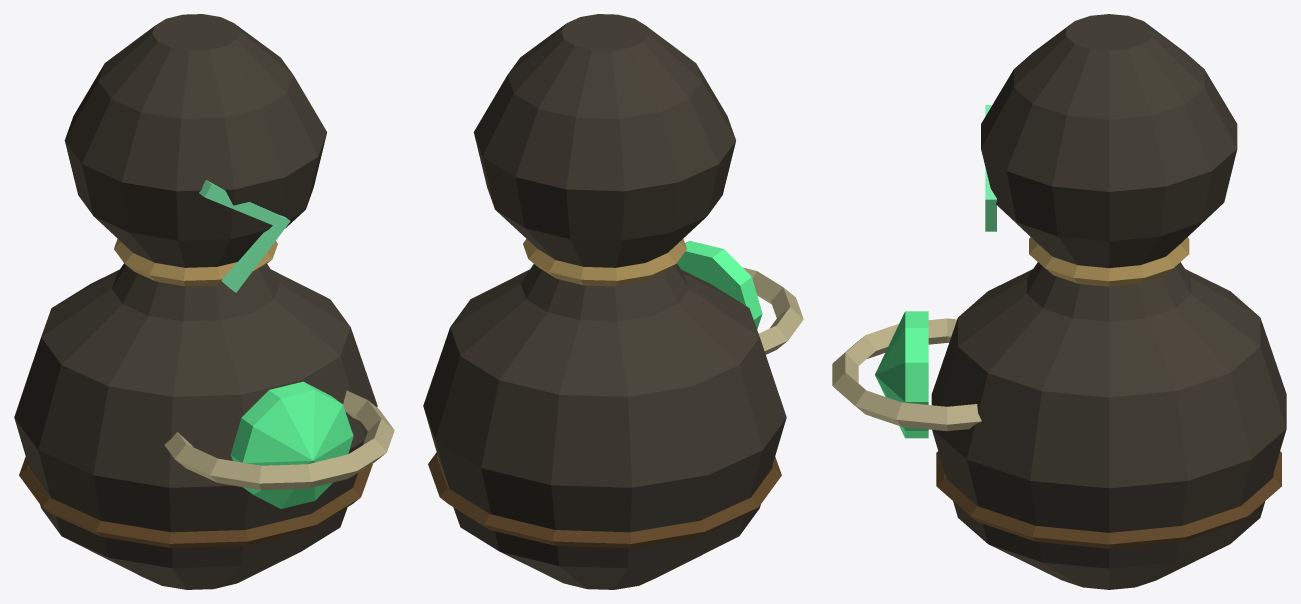
Rendered from void_swallowing_gourd.obj.
The picture shows the model from 3 angles, left to right: view 1: azimuth 30°, elevation 25°; view 2: azimuth 150°, elevation 25°; view 3: azimuth 270°, elevation 25°; orthographic projection.
Parts seen in each view (by area): view 1: void_gourd, void_core, void_orbit, void_lower_seal, void_waist, void_script, void_script_edge; view 2: void_gourd, void_lower_seal, void_waist, void_core, void_orbit; view 3: void_gourd, void_lower_seal, void_orbit, void_core, void_waist, void_script_edge.
Boxes of the visible parts, x1=… form: void_gourd: x1=14, y1=14, x2=377, y2=589; void_core: x1=230, y1=381, x2=353, y2=508; void_orbit: x1=164, y1=390, x2=394, y2=490; void_lower_seal: x1=19, y1=457, x2=372, y2=548; void_waist: x1=114, y1=238, x2=277, y2=286; void_script: x1=205, y1=184, x2=290, y2=292; void_script_edge: x1=199, y1=180, x2=289, y2=291; void_gourd: x1=423, y1=14, x2=786, y2=589; void_lower_seal: x1=428, y1=452, x2=781, y2=548; void_waist: x1=523, y1=239, x2=686, y2=286; void_core: x1=677, y1=241, x2=762, y2=329; void_orbit: x1=743, y1=267, x2=803, y2=354; void_gourd: x1=931, y1=14, x2=1286, y2=589; void_lower_seal: x1=936, y1=451, x2=1281, y2=548; void_orbit: x1=832, y1=318, x2=981, y2=431; void_core: x1=875, y1=311, x2=928, y2=438; void_waist: x1=1029, y1=237, x2=1189, y2=286; void_script_edge: x1=985, y1=105, x2=996, y2=231.
Size of the model in its own units: 1.08 by 1.74 by 1.35.
